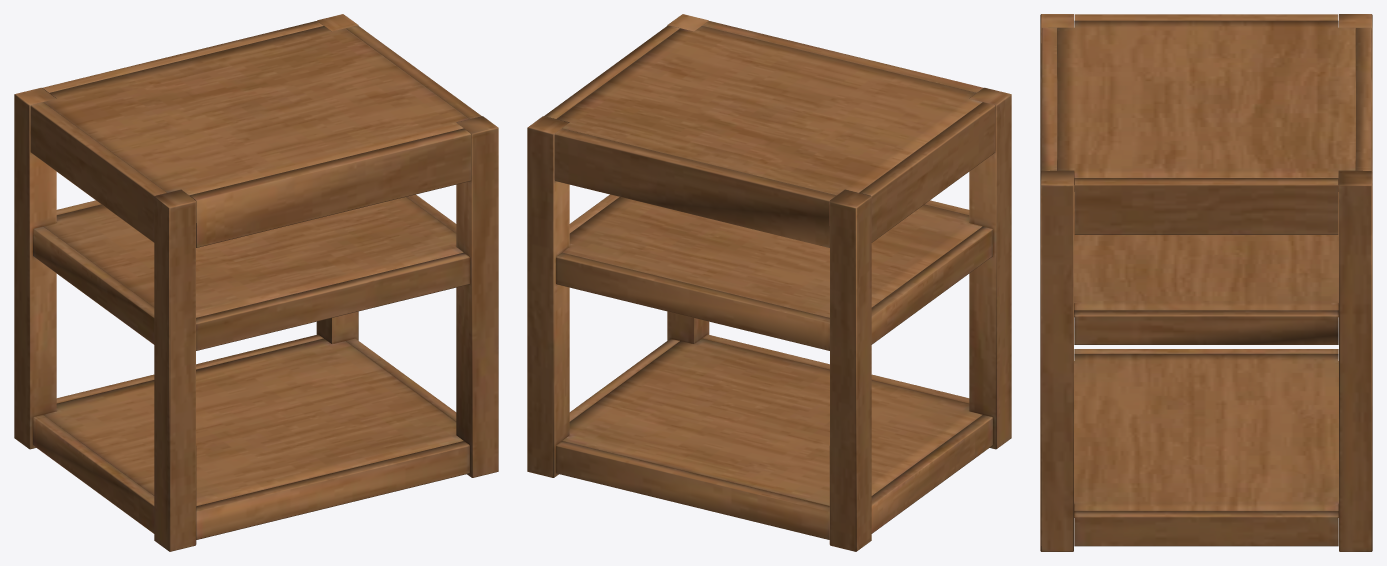
The model's file is side-table.glb.
3 views of the same model, side by side, from view 1: azimuth 30°, elevation 25°; view 2: azimuth 150°, elevation 25°; view 3: azimuth 270°, elevation 25° (orthographic). The views are drawn at different scales.
Parts seen in each view (by area): view 1: side_table_01; view 2: side_table_01; view 3: side_table_01.
Part boxes in pixels (x1=…): side_table_01: x1=14, y1=14, x2=498, y2=551; side_table_01: x1=527, y1=14, x2=1011, y2=551; side_table_01: x1=1040, y1=14, x2=1372, y2=551.
Bounding box in the file's own units: 0.6325 × 0.6333 × 0.5175.
Materials: 1 (1 with a texture image).
